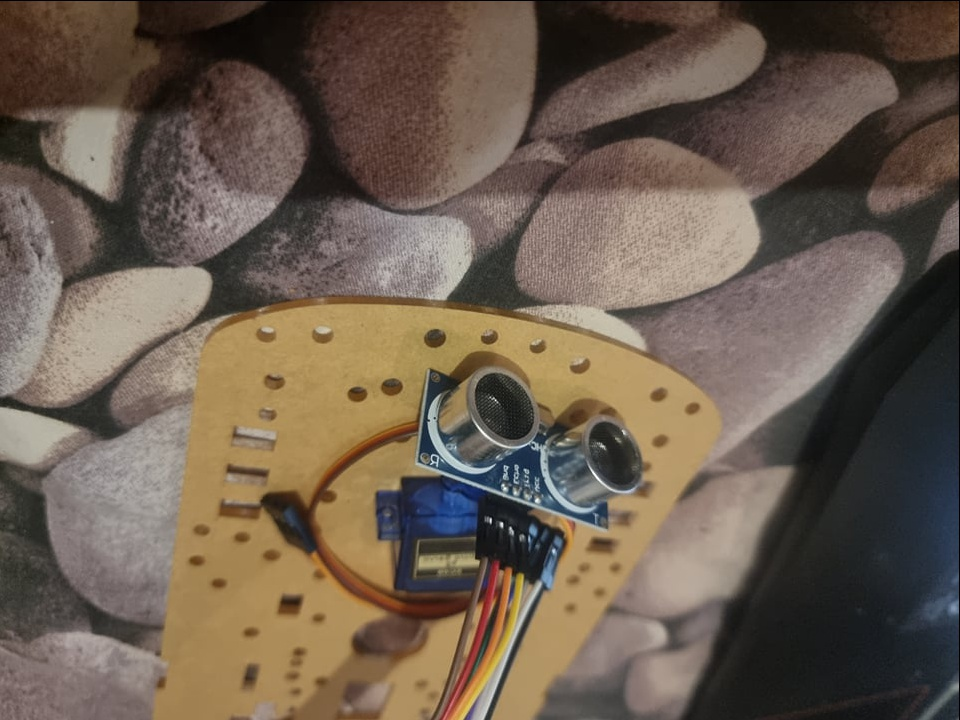SENSOR: (415, 360, 646, 531)
